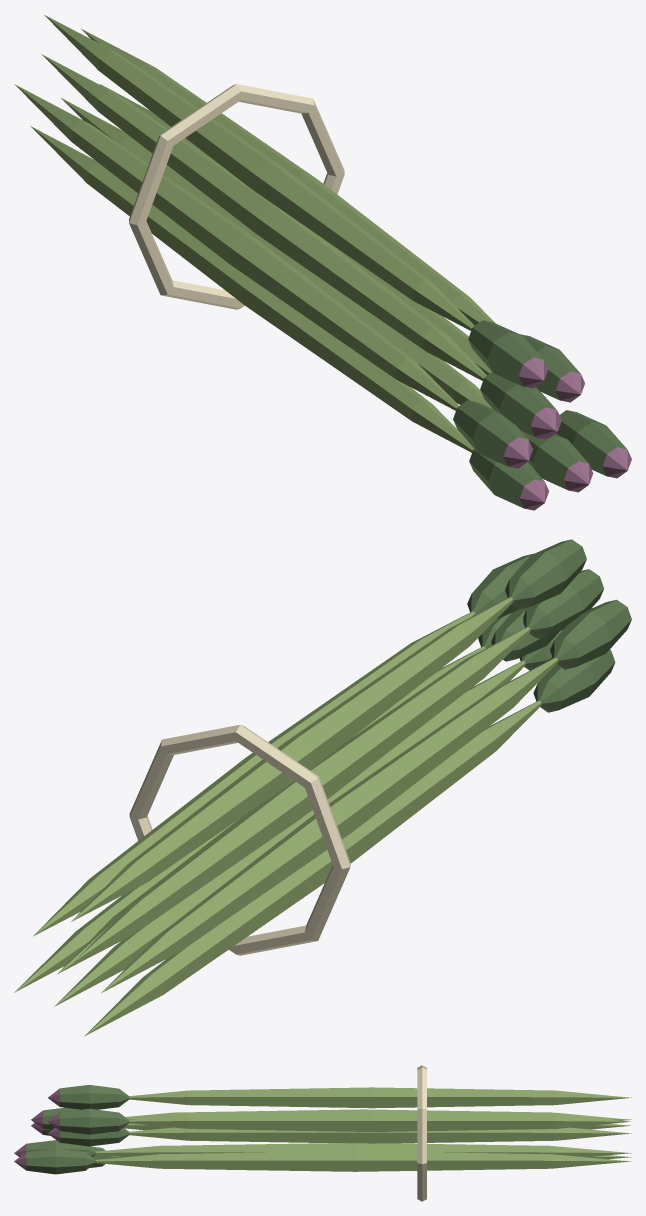
Rendered from asparagus.glb.
3 renders of one model, top to bottom at view 1: azimuth 30°, elevation 25°; view 2: azimuth 150°, elevation 25°; view 3: azimuth 270°, elevation 25°, orthographic. The views are drawn at different scales.
Parts seen in each view (by area): view 1: asparagus; view 2: asparagus; view 3: asparagus.
Part boxes in pixels (x1=…): asparagus: x1=14, y1=15, x2=631, y2=510; asparagus: x1=14, y1=539, x2=631, y2=1036; asparagus: x1=14, y1=1065, x2=631, y2=1201.
Size of the model in its own units: 0.052 by 0.052 by 0.221.
